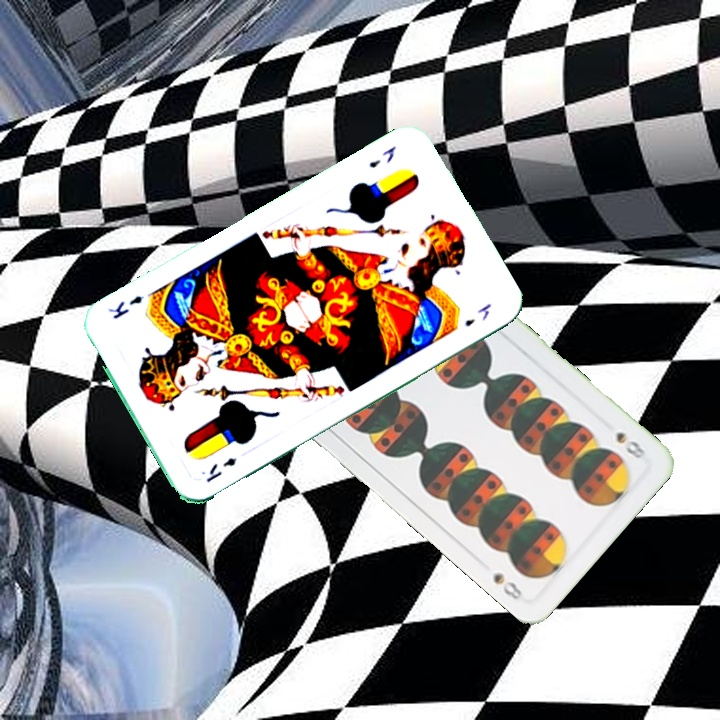EK: (201, 453, 239, 485), (365, 142, 399, 171)
S8: (612, 427, 648, 462)
